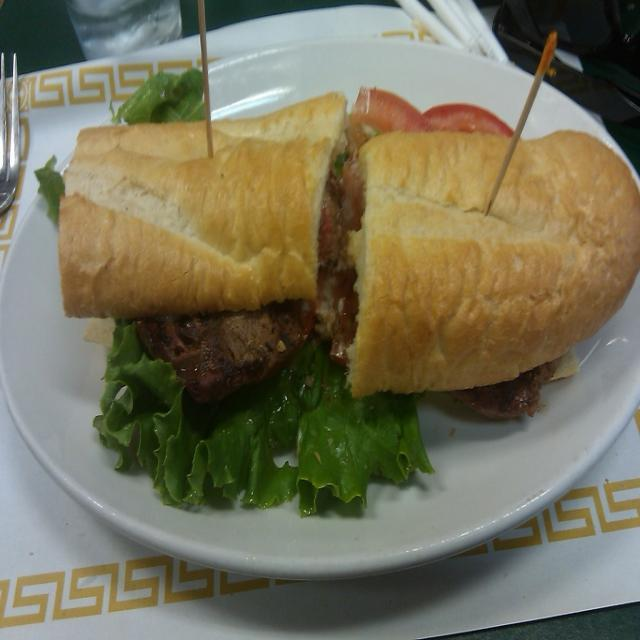Sandwich: (58, 88, 640, 516)
